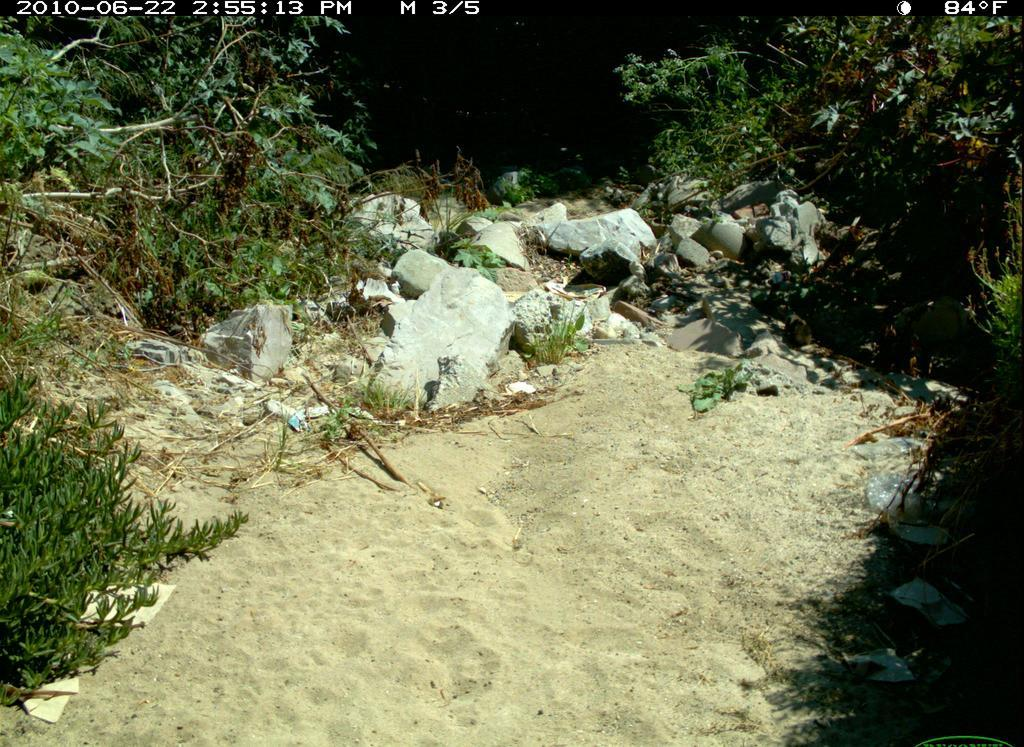squirrel: (776, 302, 814, 350)
